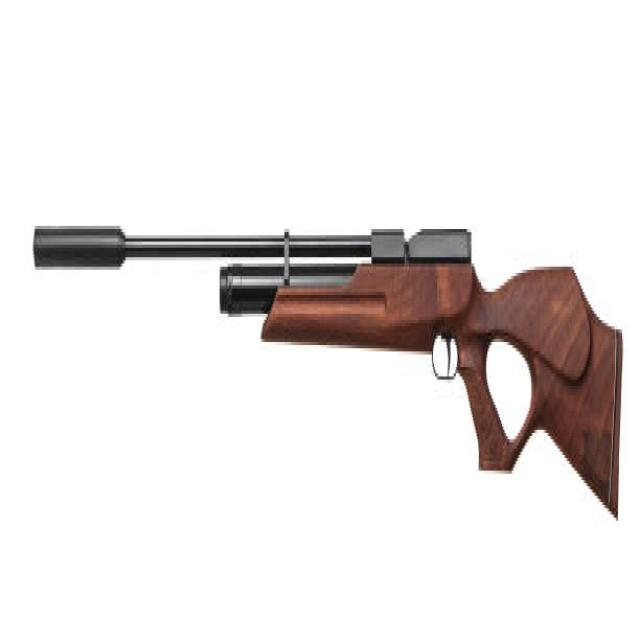rifle: (31, 204, 628, 535)
